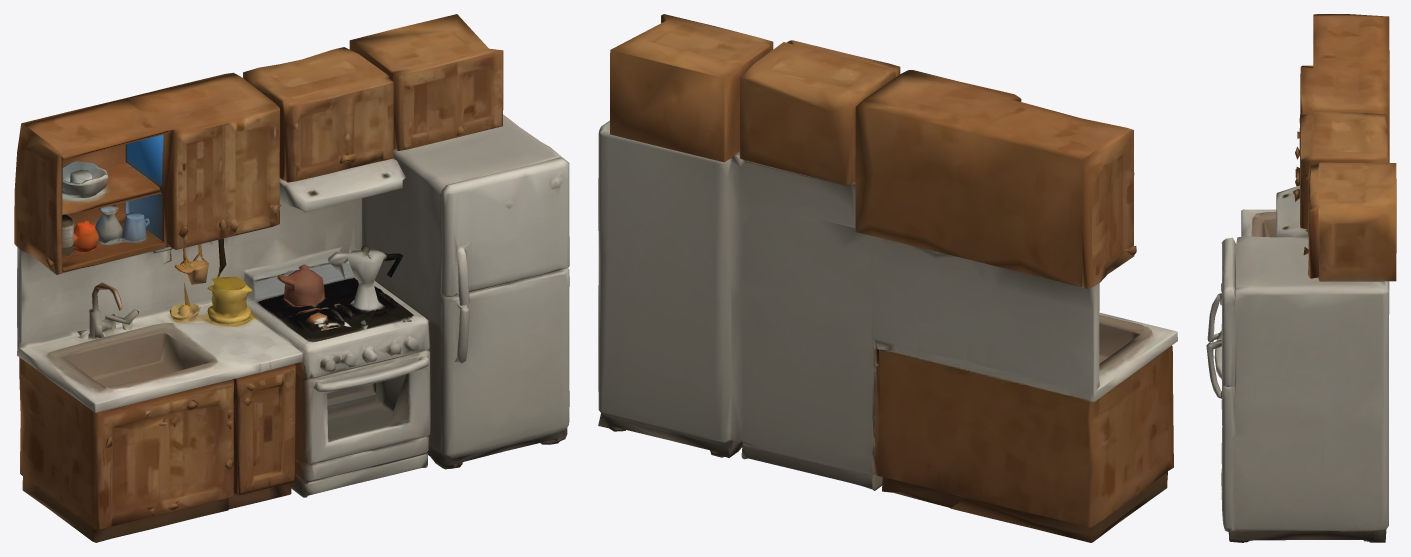
File: kitchen_set.glb
3 views of the same model, side by side, from view 1: azimuth 30°, elevation 25°; view 2: azimuth 150°, elevation 25°; view 3: azimuth 270°, elevation 25° (orthographic). The views are drawn at different scales.
Visible parts, largest first — view 1: tripo_node_b9ff2359-0be8-4dd4-b8c9-28ac6aa6b888; view 2: tripo_node_b9ff2359-0be8-4dd4-b8c9-28ac6aa6b888; view 3: tripo_node_b9ff2359-0be8-4dd4-b8c9-28ac6aa6b888.
Part boxes in pixels (x1,y1,x2,y2): tripo_node_b9ff2359-0be8-4dd4-b8c9-28ac6aa6b888: [14, 14, 569, 542]; tripo_node_b9ff2359-0be8-4dd4-b8c9-28ac6aa6b888: [598, 14, 1177, 542]; tripo_node_b9ff2359-0be8-4dd4-b8c9-28ac6aa6b888: [1206, 14, 1396, 542].
Size of the model in its own units: 3 by 2.23 by 1.17.
Materials: 1 (1 with a texture image).
